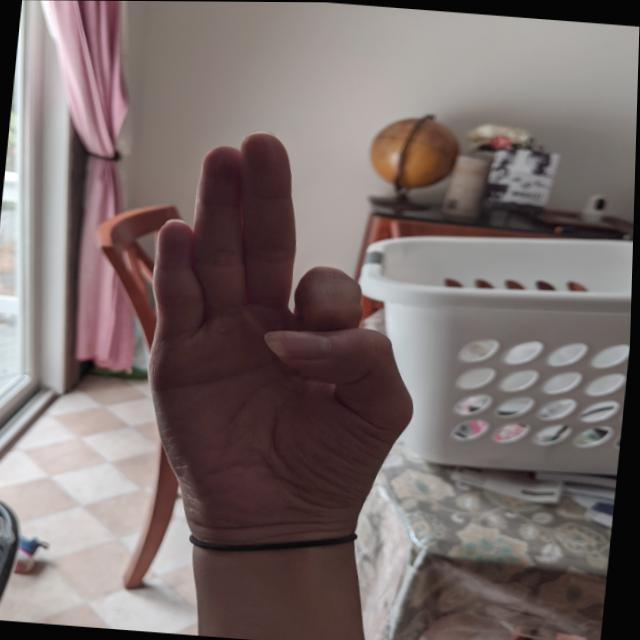F: (117, 119, 447, 560)
